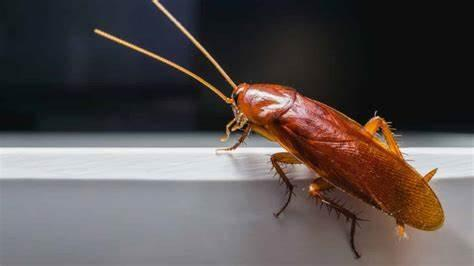cockroach: (218, 72, 448, 241)
